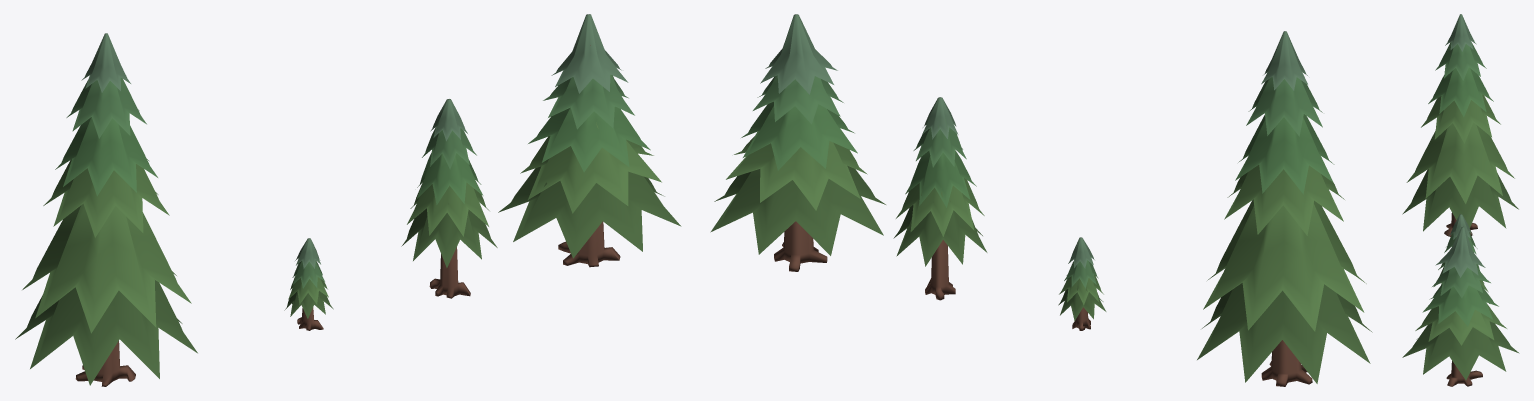
The model's file is PineTreeCollection.fbx.
The picture shows the model from 3 angles, left to right: view 1: azimuth 30°, elevation 25°; view 2: azimuth 150°, elevation 25°; view 3: azimuth 270°, elevation 25°; orthographic projection. The views are drawn at different scales.
Visible parts, largest first — view 1: Circle.035, Circle.052, Circle.046, Circle.040; view 2: Circle.035, Circle.052, Circle.046, Circle.040; view 3: Circle.035, Circle.052, Circle.046.
Part boxes in pixels (x1,y1,x2,y2): Circle.035: (15,33,197,386); Circle.052: (498,14,681,267); Circle.046: (401,99,497,298); Circle.040: (284,238,333,330); Circle.035: (1197,31,1372,386); Circle.052: (710,14,885,271); Circle.046: (893,97,987,300); Circle.040: (1058,237,1106,330); Circle.035: (1402,14,1518,236); Circle.052: (1402,227,1519,386); Circle.046: (1434,214,1489,303).
Size of the model in its own units: 694 by 1415 by 2769.
